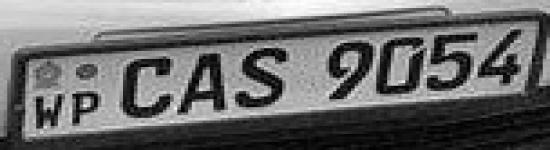0: (376, 35, 428, 100)
4: (476, 26, 526, 88)
5: (425, 30, 477, 94)
9: (322, 38, 378, 104)
A: (177, 49, 232, 117)
C: (119, 54, 176, 121)
P: (68, 89, 105, 129)
S: (233, 42, 291, 114)
W: (32, 89, 65, 131)
